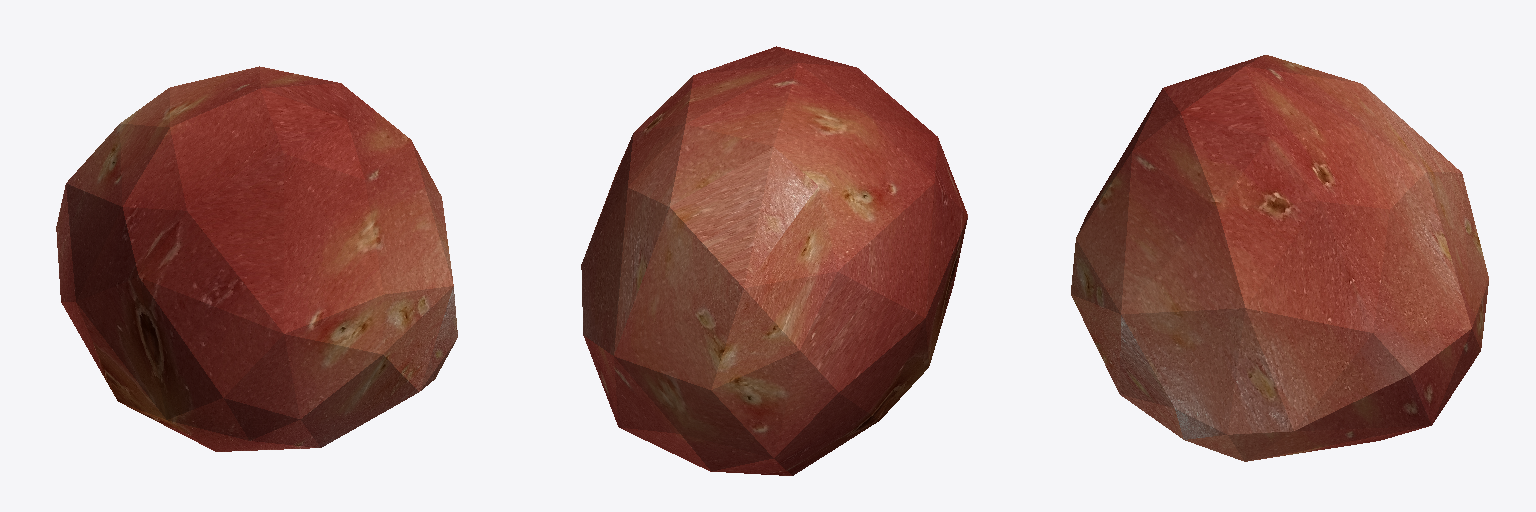
3 renders of one model, left to right at view 1: azimuth 30°, elevation 25°; view 2: azimuth 150°, elevation 25°; view 3: azimuth 270°, elevation 25°, orthographic.
Visible parts, largest first — view 1: Asteroid; view 2: Asteroid; view 3: Asteroid.
Boxes of the visible parts, <box> form: Asteroid: <box>56,66,457,451</box>; Asteroid: <box>581,46,967,475</box>; Asteroid: <box>1071,55,1488,461</box>.
Bounding box in the file's own units: 4.4 × 4.57 × 4.73.
1 materials, 1 textured.